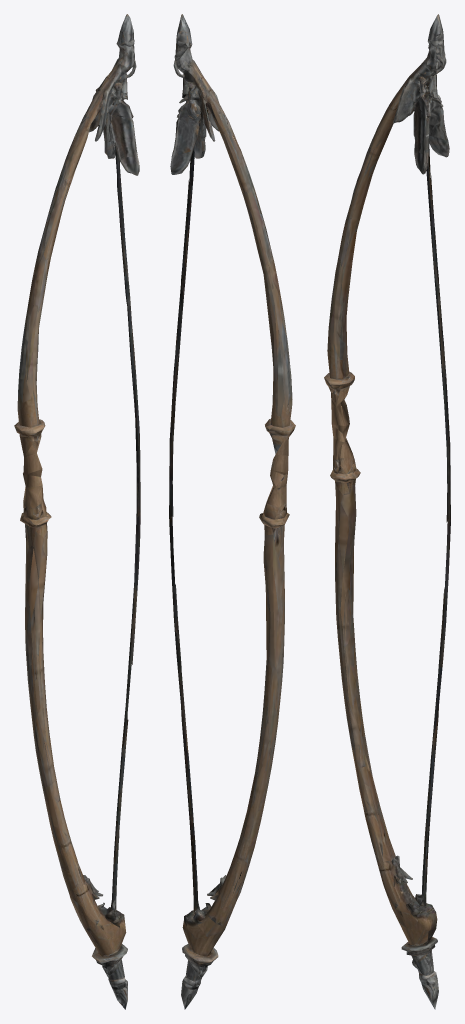
Rendered from weapon-bow.glb.
The picture shows the model from 3 angles, left to right: view 1: azimuth 30°, elevation 25°; view 2: azimuth 150°, elevation 25°; view 3: azimuth 330°, elevation 25°; orthographic projection.
Bounding box in the file's own units: 0.1103 × 0.8505 × 0.0386.
1 material, 1 textured.
